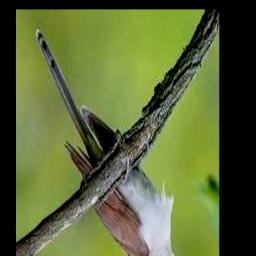Cuckoo: (36, 30, 185, 256)
